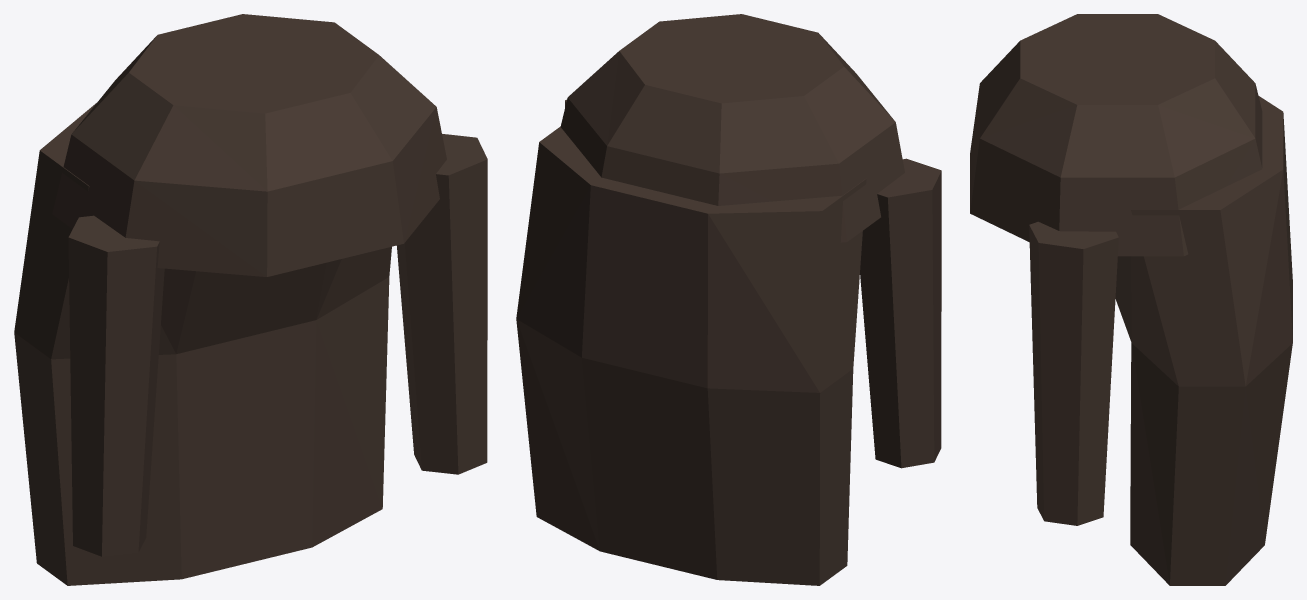
File: NPC_Hair_01_Long.glb
3 renders of one model, left to right at view 1: azimuth 30°, elevation 25°; view 2: azimuth 150°, elevation 25°; view 3: azimuth 270°, elevation 25°, orthographic. The views are drawn at different scales.
Visible parts, largest first — view 1: NPC_Hair_01_Long; view 2: NPC_Hair_01_Long; view 3: NPC_Hair_01_Long.
Boxes of the visible parts, x1,y1,x2,y2 form: NPC_Hair_01_Long: (14,14,487,585); NPC_Hair_01_Long: (516,14,941,585); NPC_Hair_01_Long: (970,14,1292,585).
Size of the model in its own units: 0.5873 by 0.693 by 0.4437.
